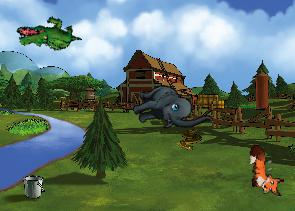crocodile: (14, 8, 82, 62)
elephant: (127, 70, 213, 149)
fox: (248, 144, 284, 197)
